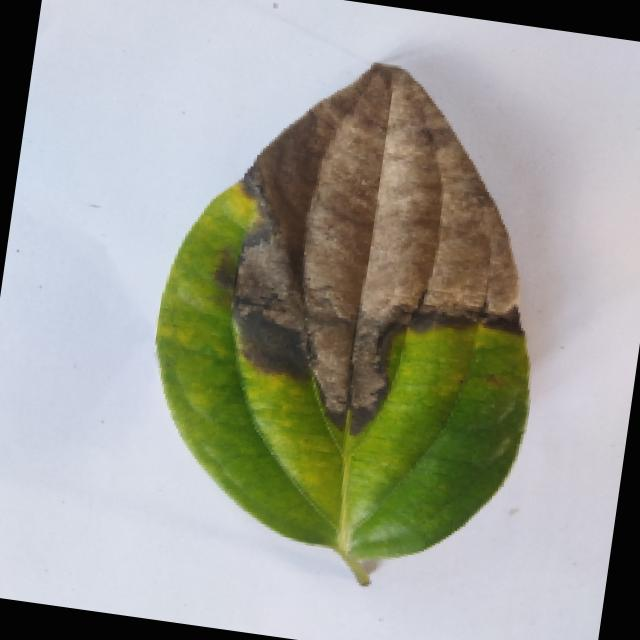footrot: (121, 36, 572, 602)
